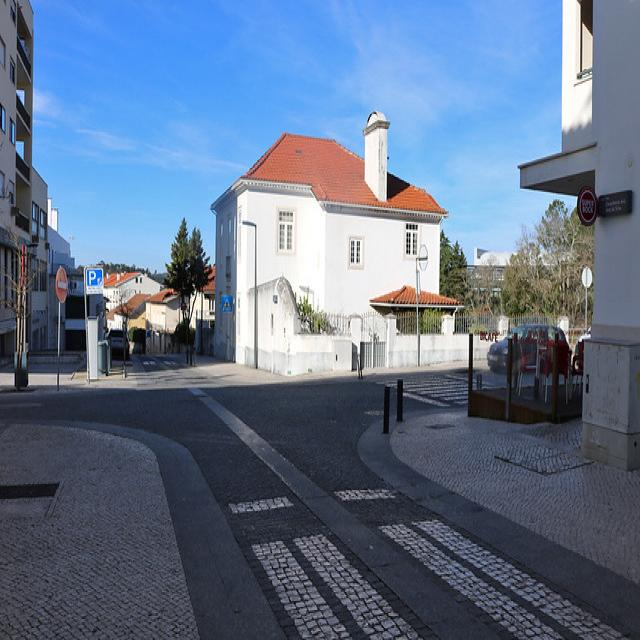Normal_building: (205, 105, 460, 373)
